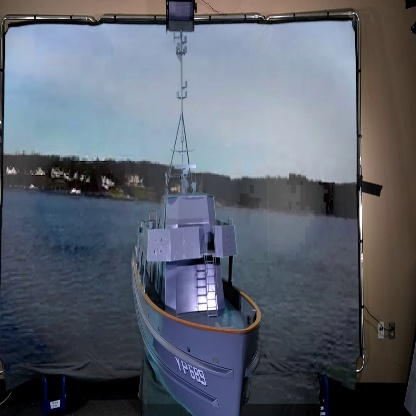YP689: (131, 30, 262, 416)
